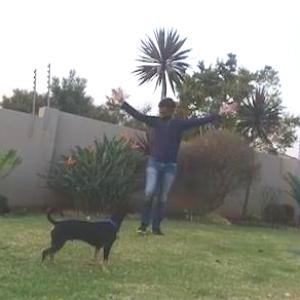takeoff: (113, 81, 245, 232)
